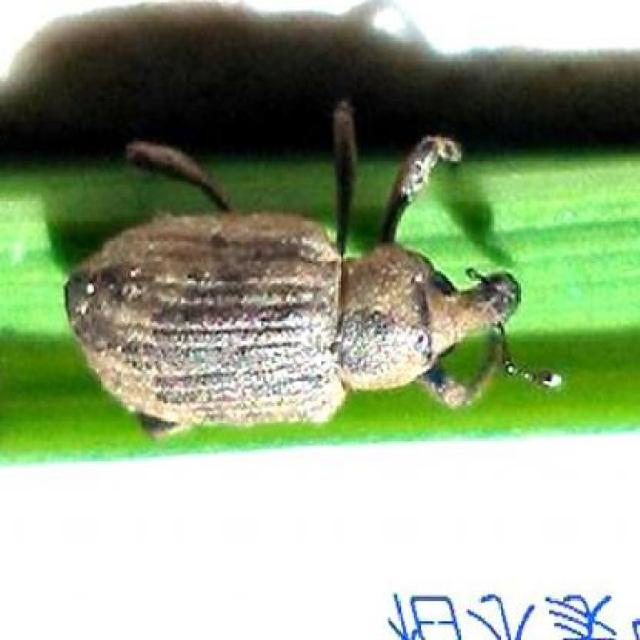rice-bug: (71, 103, 518, 439)
